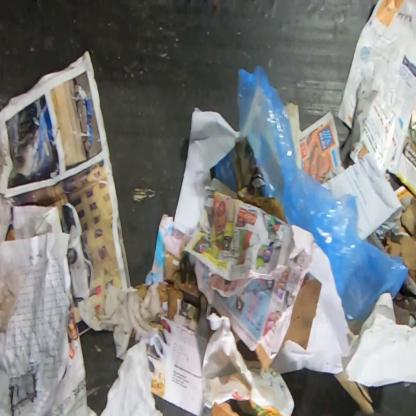cardboard: (280, 277, 323, 350), (384, 199, 416, 286), (333, 371, 375, 415)
soft_plastic: (236, 65, 410, 322), (201, 303, 296, 415)
